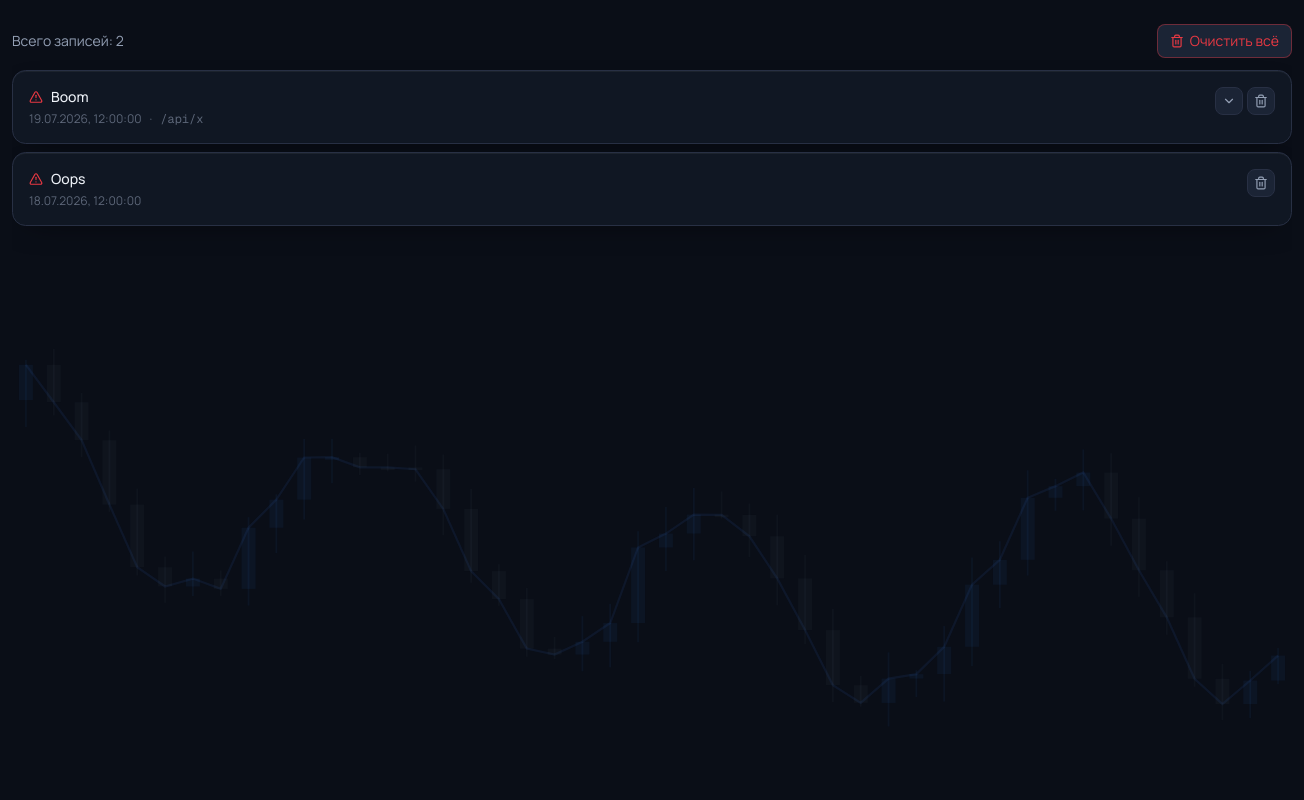
Test: AdminErrors › removes a single error entry
Expected: the text "Boom" is shown, left=51, top=87, right=89, bottom=107
Click the button titled "Удалить" in the row of "/api/x" at (1261, 101), box left=1247, top=87, right=1275, bottom=115
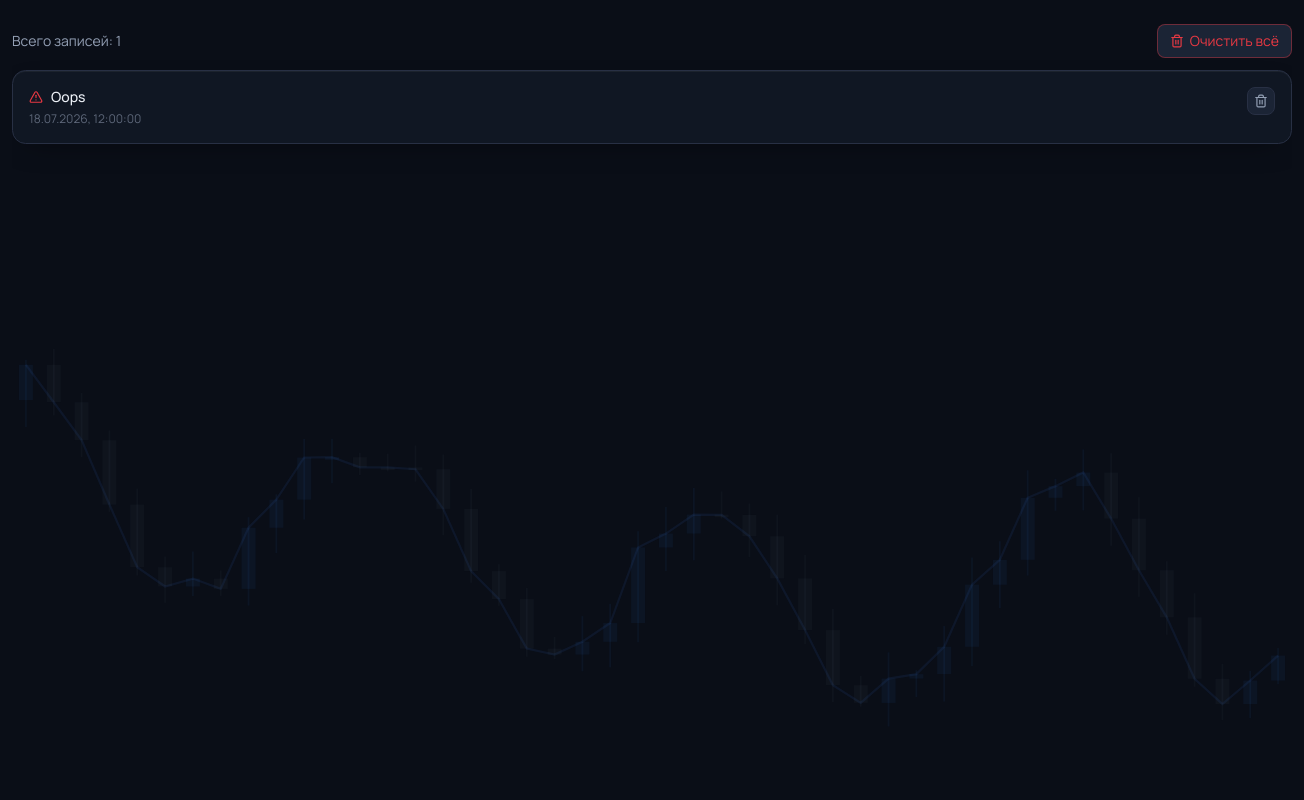
Result: the text "Boom" is gone
